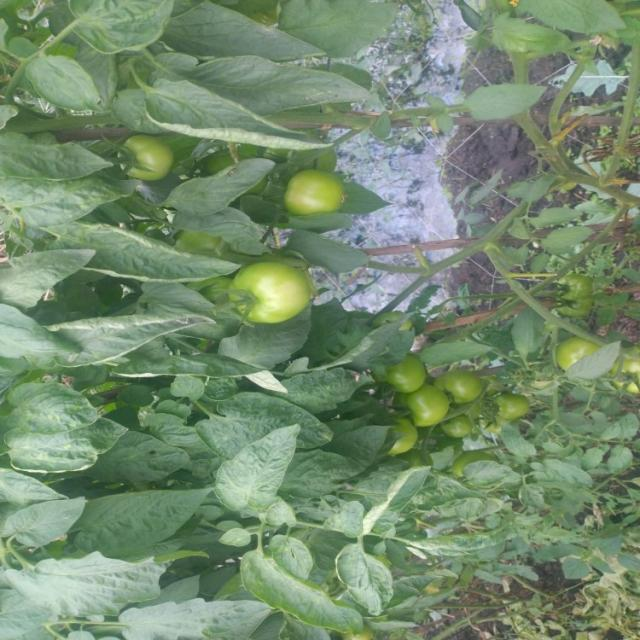tomato: (228, 253, 306, 324), (278, 162, 356, 231), (110, 133, 180, 178), (380, 353, 433, 405), (486, 380, 535, 432), (407, 382, 455, 435), (385, 412, 429, 464), (443, 357, 483, 406), (556, 271, 603, 302), (443, 409, 483, 444), (557, 335, 596, 370), (617, 346, 640, 400), (556, 293, 593, 326)
